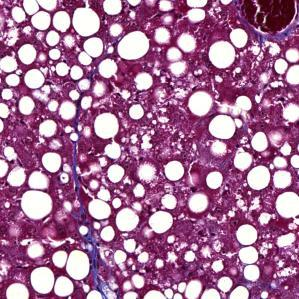fibrosis: (69, 174, 98, 246)
